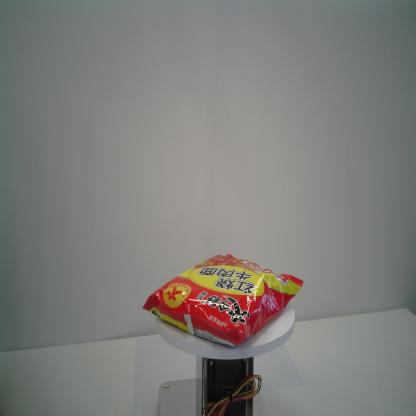Instant Noodles: (141, 251, 304, 350)
